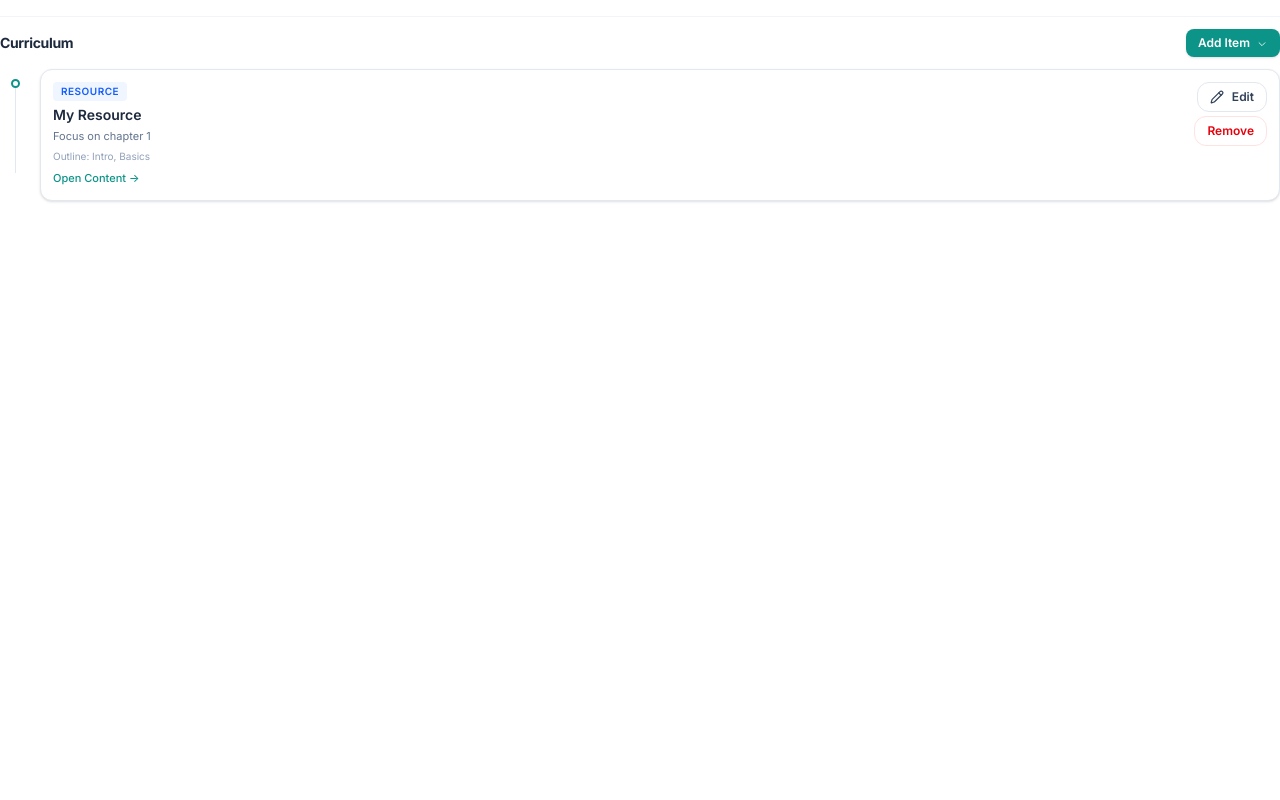
Test: ProgramInner resource modal › cancel closes the resource modal
What coordinates should you click on to do the following:
click the button "Add Item"
I would click on:
 (1233, 43)
Its box is [1186,29,1279,57].
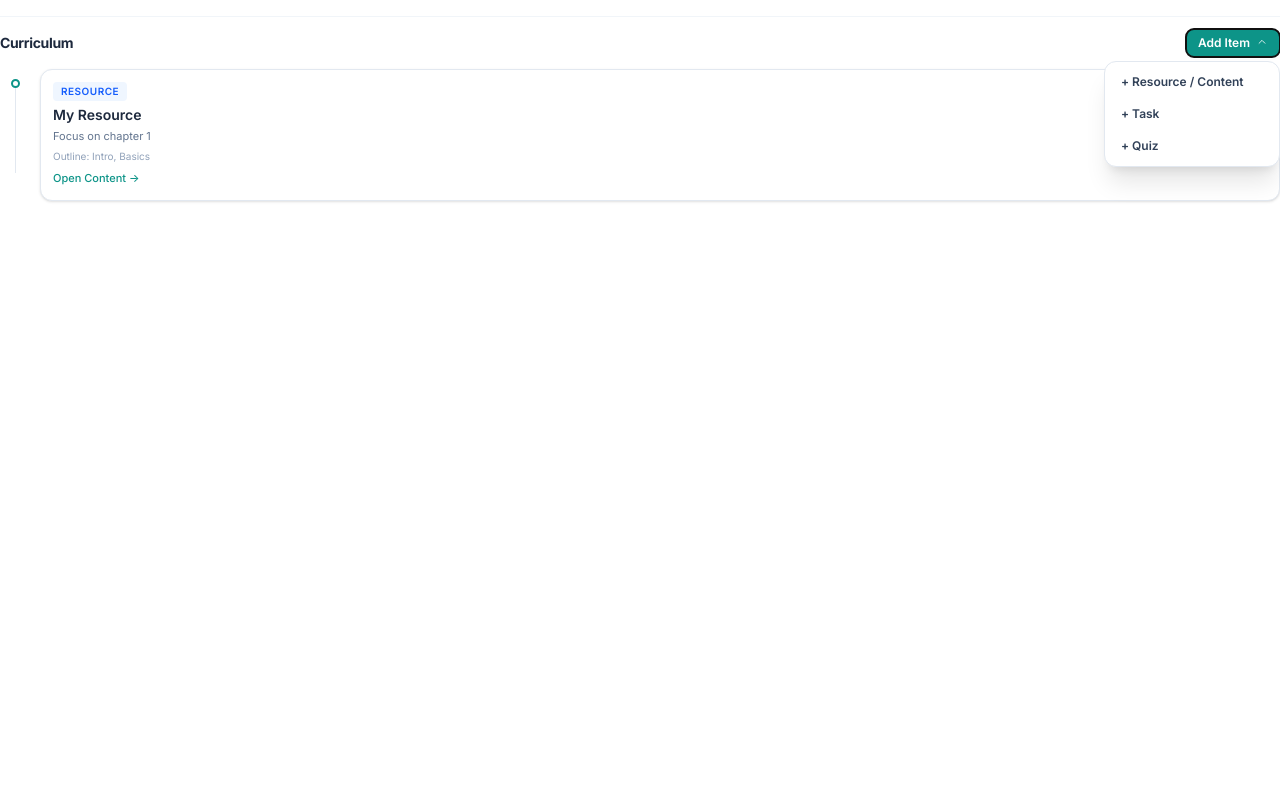
What coordinates should you click on to do the following:
click the menu item "+ Resource / Content"
I would click on:
 (1192, 82)
Its box is [1105,66,1279,98].
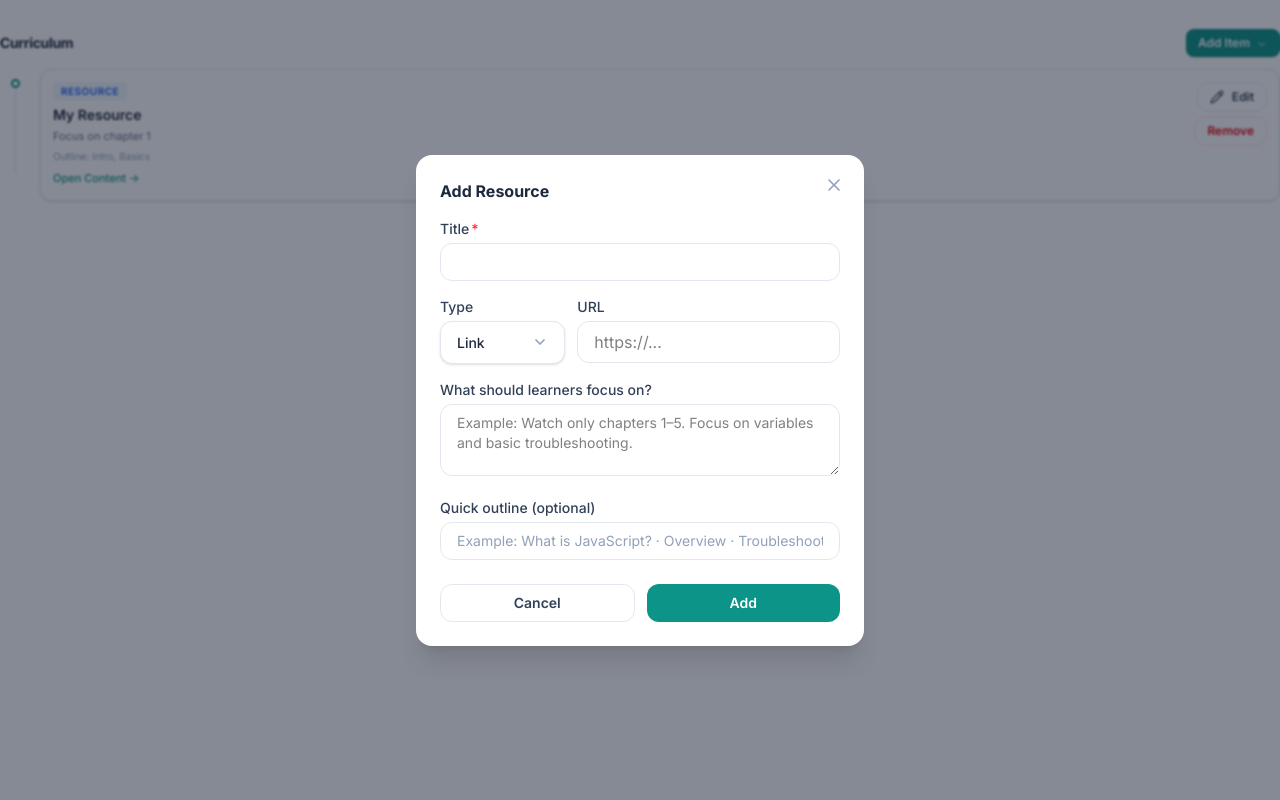
What coordinates should you click on to do the following:
click the button "Cancel"
I would click on:
 (537, 602)
Its box is [440,584,635,622].
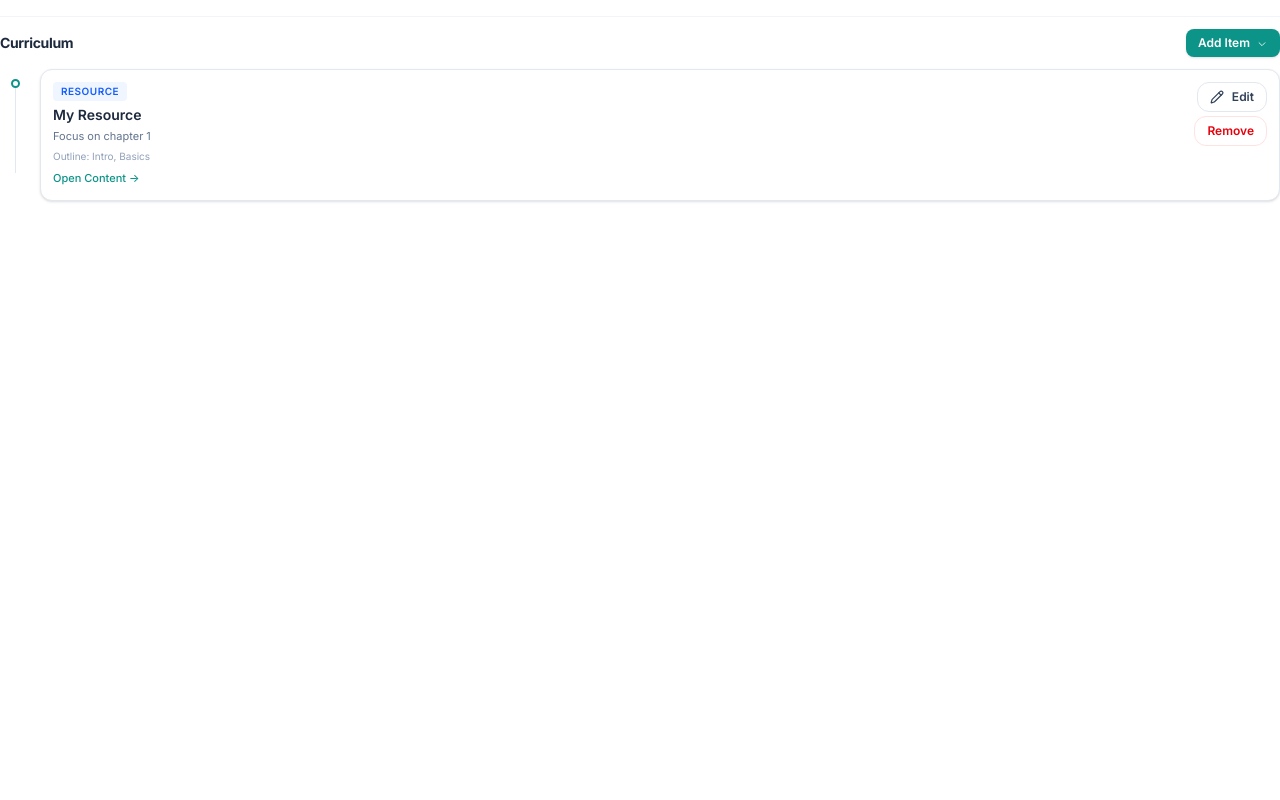
Result: the dialog is gone
